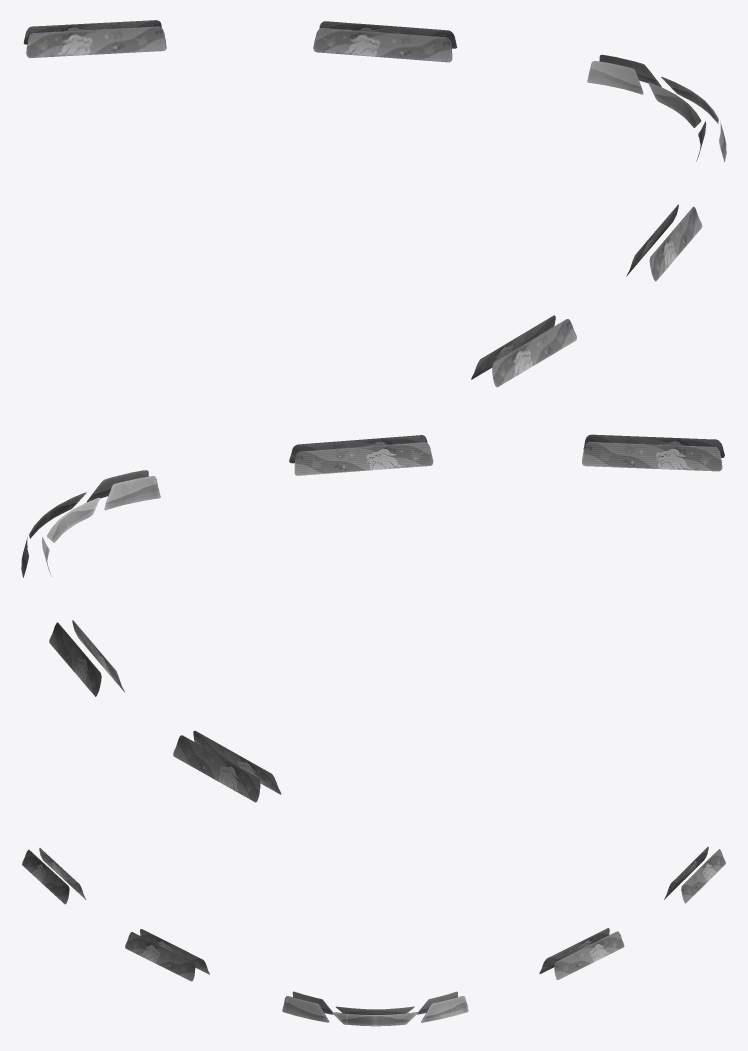
File: pref_sm_4v4beachtech_bk_WSJ_centerblock_L01a_lv1.fbx
3 renders of one model, top to bottom at view 1: azimuth 30°, elevation 25°; view 2: azimuth 150°, elevation 25°; view 3: azimuth 270°, elevation 25°, orthographic. The views are drawn at different scales.
Visible parts, largest first — view 1: pref_sm_4v4beachtech_bk_WSJ_centerblock_L01a_lv1; view 2: pref_sm_4v4beachtech_bk_WSJ_centerblock_L01a_lv1; view 3: pref_sm_4v4beachtech_bk_WSJ_centerblock_L01a_lv1.
Boxes of the visible parts, bbox=[...] form: pref_sm_4v4beachtech_bk_WSJ_centerblock_L01a_lv1: bbox=[23, 20, 726, 387]; pref_sm_4v4beachtech_bk_WSJ_centerblock_L01a_lv1: bbox=[21, 434, 724, 802]; pref_sm_4v4beachtech_bk_WSJ_centerblock_L01a_lv1: bbox=[22, 847, 725, 1026].
Size of the model in its own units: 22.24 by 1.64 by 38.87.
